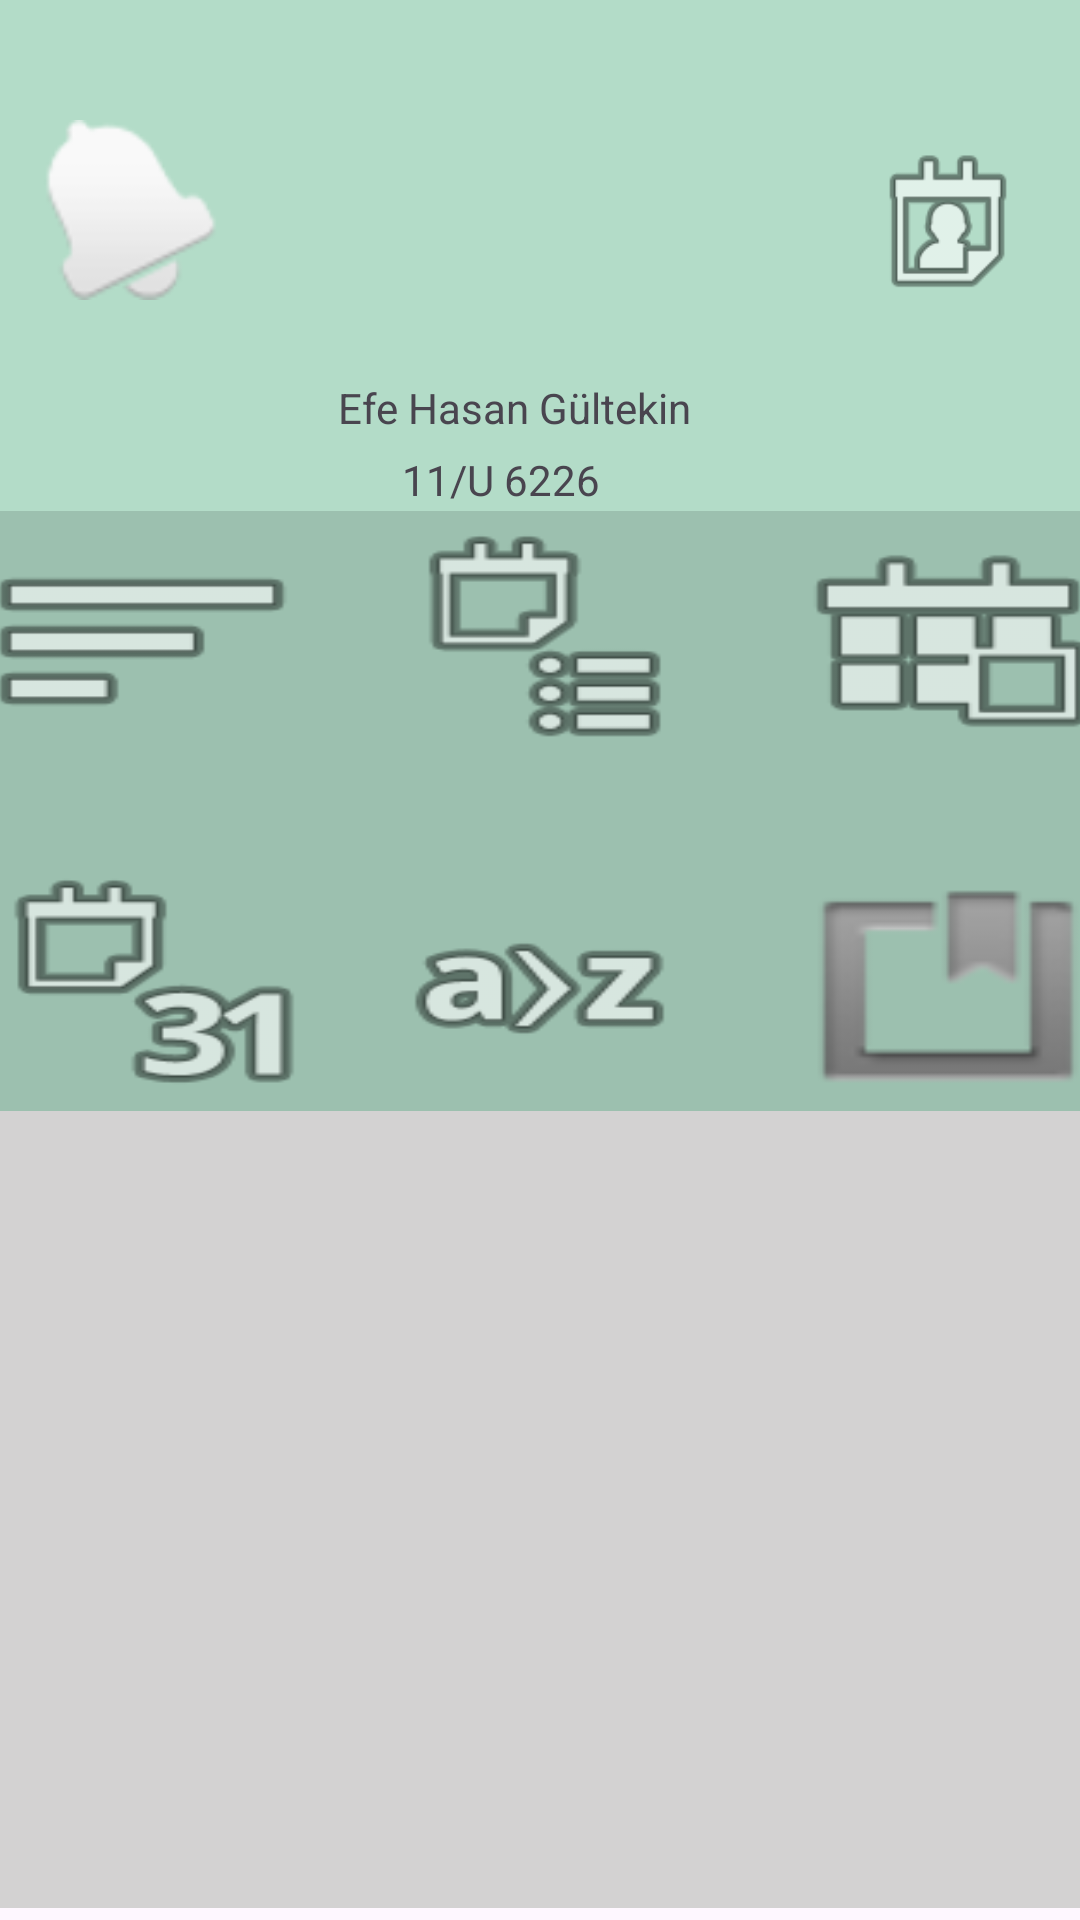

Screen size 1080x1920. Icon name, then its center in pixels as (x=x, y=y):
agenda: (x=544, y=636)
popup reminder: (x=131, y=210)
sort alphabetically: (x=539, y=988)
